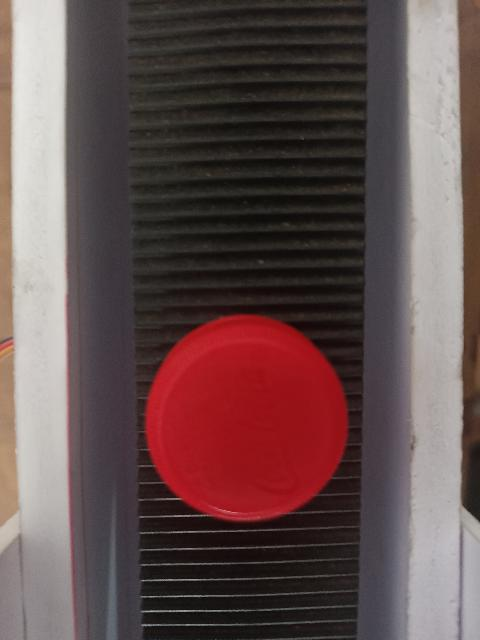bottlecap: (144, 310, 354, 524)
